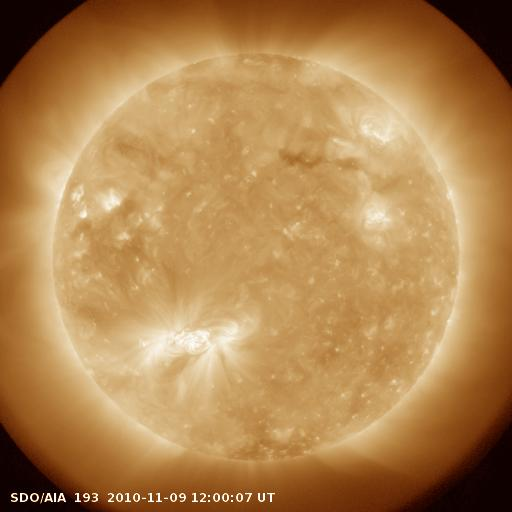coronal_hole: (277, 143, 370, 179)
